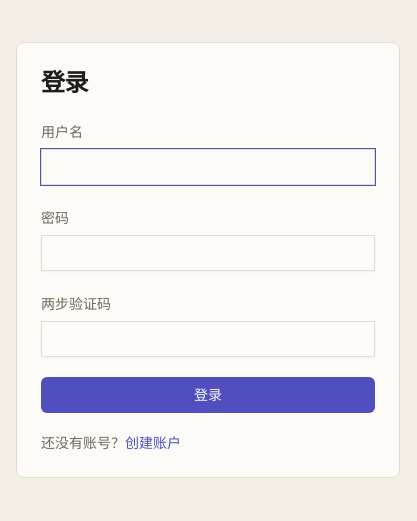
登录页 › 空表单被前端拦下，不发请求
Click the button with test id "login-submit". click: x=208, y=395
box: 41,377 -> 375,413
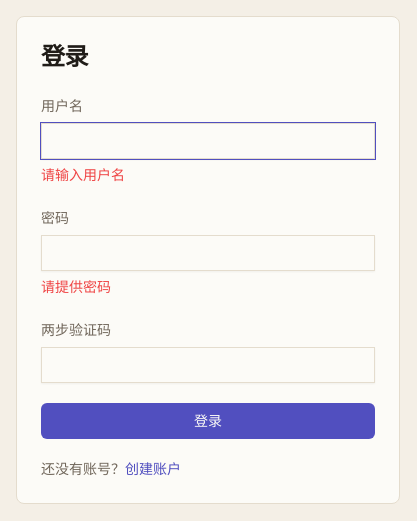
Check: the message "请输入用户名" is shown, box 41,166 -> 125,184
Check: the message "请提供密码" is shown, box 41,278 -> 111,296
